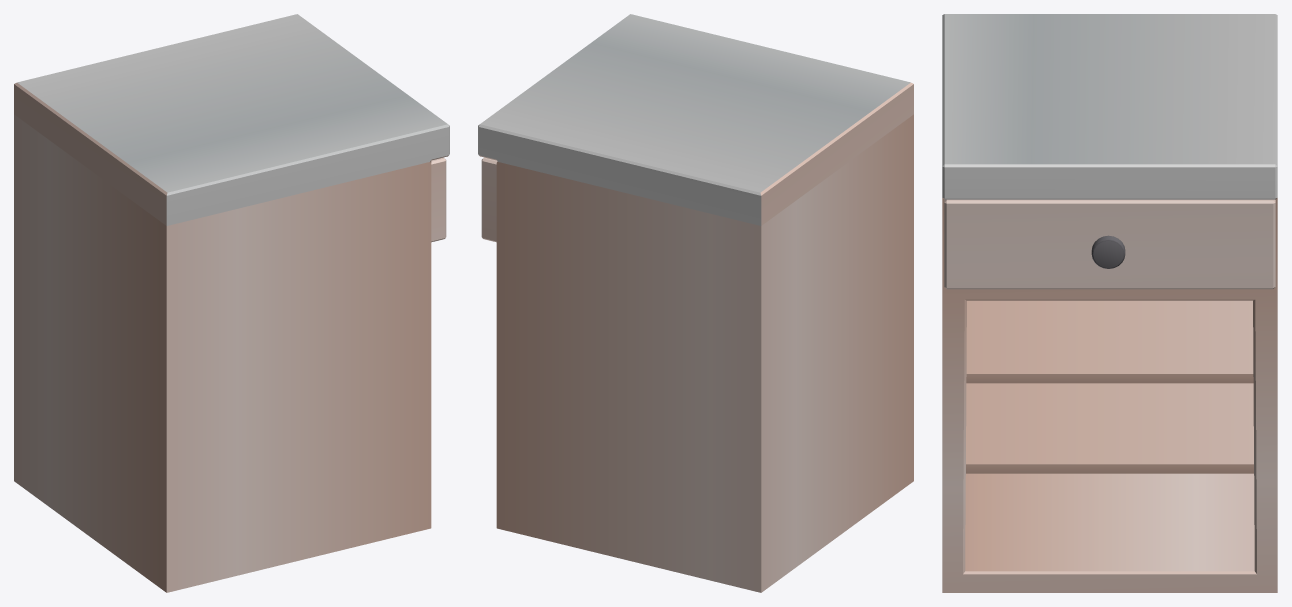
File: CabinetDrawers1.fbx
The picture shows the model from 3 angles, left to right: view 1: azimuth 30°, elevation 25°; view 2: azimuth 150°, elevation 25°; view 3: azimuth 270°, elevation 25°; orthographic projection. The views are drawn at different scales.
Visible parts, largest first — view 1: CabinetDrawers; view 2: CabinetDrawers; view 3: CabinetDrawers.
Part boxes in pixels (box(x1,y1,x2,y2)): CabinetDrawers: box(14, 14, 449, 592); CabinetDrawers: box(478, 14, 913, 592); CabinetDrawers: box(942, 14, 1277, 592).
Bounding box in the file's own units: 69.45 × 89.25 × 61.91.
